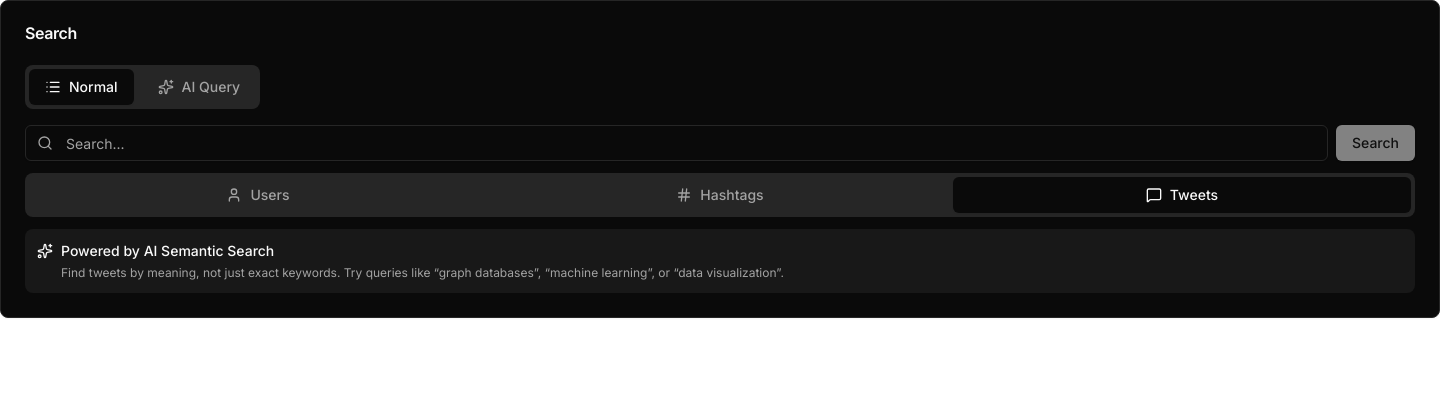
it: GlobalSearch Component › should show loading state during search
Type "test" into the field with placeholder "Search...". click: (676, 143)
box: [25,125,1328,161]
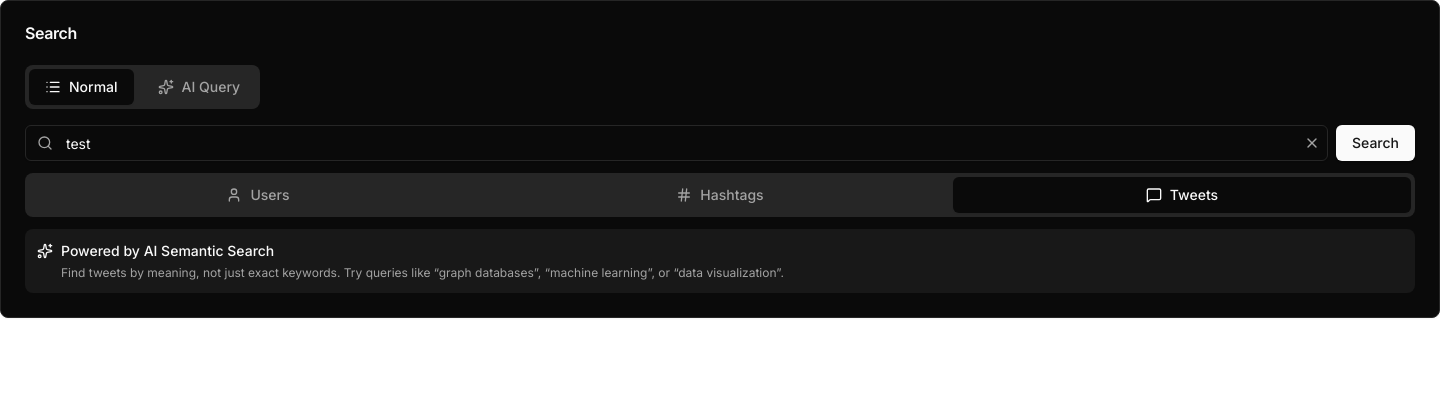
Click the button "Search". click: (1376, 143)
box: [1336,125,1415,161]
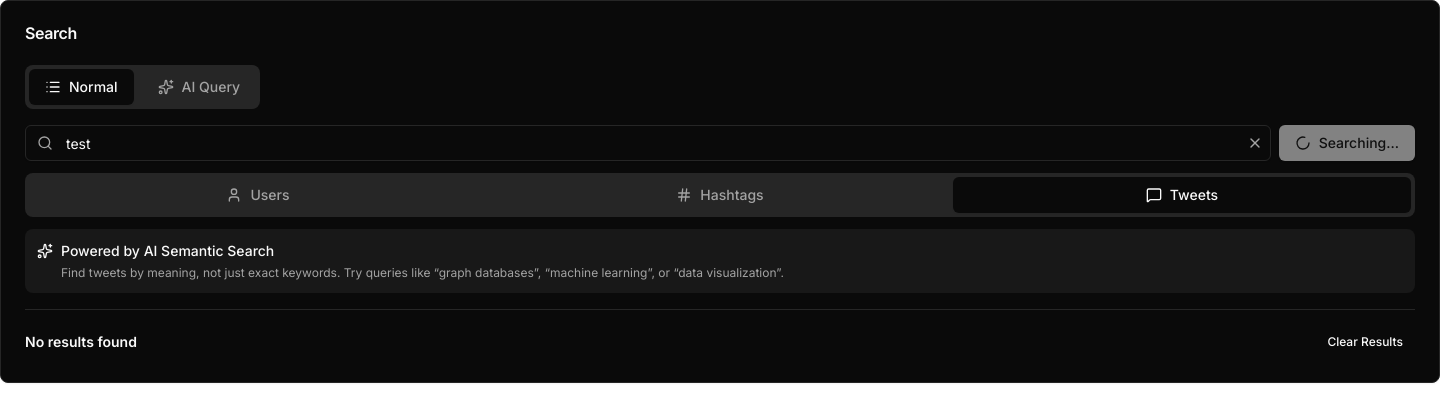
Check: the button "Searching..." is disabled, box [1279,125,1415,161]
